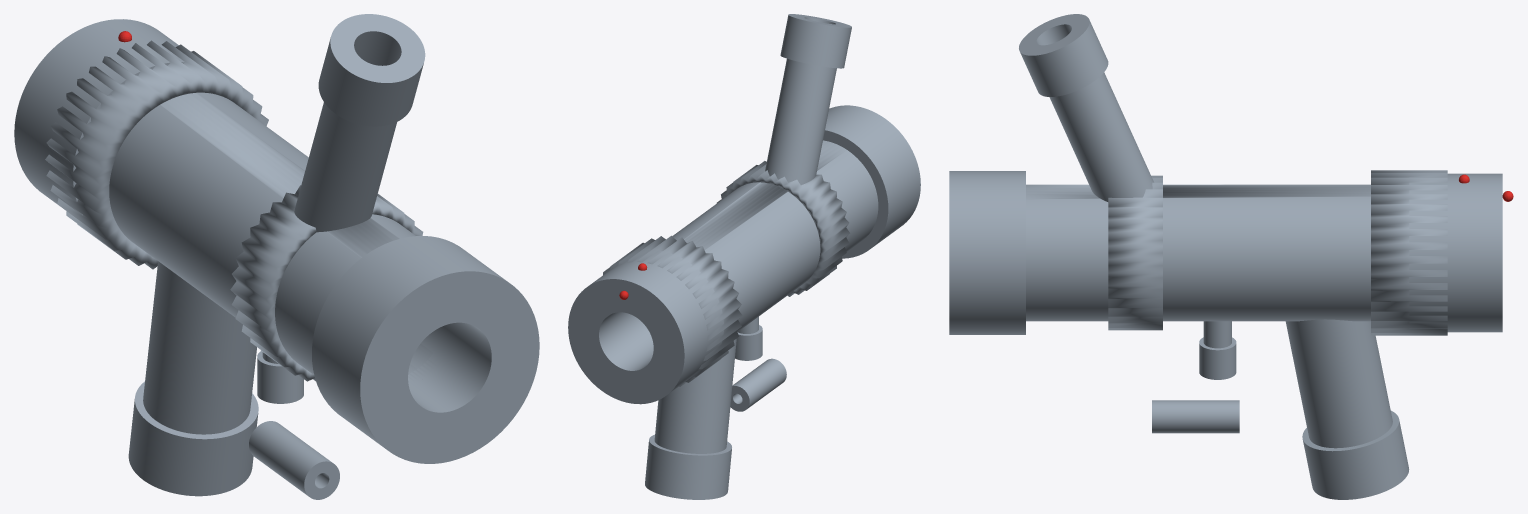
The model's file is bd2410-3-adult-universal-base.glb.
3 renders of one model, left to right at view 1: azimuth 30°, elevation 25°; view 2: azimuth 150°, elevation 25°; view 3: azimuth 270°, elevation 25°, orthographic. The views are drawn at different scales.
Visible parts, largest first — view 1: Universal_Base_BD2410_3_Rear_Main_Port_Collar, Universal_Base_BD2410_3_Connected_Main_Lumen, Universal_Base_BD2410_3_Large_90_Degree_Tube_Lock_Ring, Universal_Base_BD2410_3_Anesthesia_Ventilation_Port_Connecte, Universal_Base_BD2410_3_Front_Tube_Lock_Collar, Universal_Base_BD2410_3_Accessory_Port_End_Collar, Universal_Base_BD2410_3_Accessory_Port_Connected_Lumen, Universal_Base_BD2410_3_Anesthesia_Port_End_Collar, Universal_Base_BD2410_3_Small_360_Degree_Ribbed_Ring, BB2403_3_Patent_Bore, Universal_Base_BD2410_3_Jet_Port_End_Collar; view 2: Universal_Base_BD2410_3_Front_Tube_Lock_Collar, Universal_Base_BD2410_3_Connected_Main_Lumen, Universal_Base_BD2410_3_Rear_Main_Port_Collar, Universal_Base_BD2410_3_Accessory_Port_Connected_Lumen, Universal_Base_BD2410_3_Anesthesia_Ventilation_Port_Connecte, Universal_Base_BD2410_3_Large_90_Degree_Tube_Lock_Ring, Universal_Base_BD2410_3_Small_360_Degree_Ribbed_Ring, Universal_Base_BD2410_3_Anesthesia_Port_End_Collar, Universal_Base_BD2410_3_Accessory_Port_End_Collar, BB2403_3_Patent_Bore, Universal_Base_BD2410_3_Jet_Port_End_Collar; view 3: Universal_Base_BD2410_3_Connected_Main_Lumen, Universal_Base_BD2410_3_Rear_Main_Port_Collar, Universal_Base_BD2410_3_Front_Tube_Lock_Collar, Universal_Base_BD2410_3_Anesthesia_Ventilation_Port_Connecte, Universal_Base_BD2410_3_Large_90_Degree_Tube_Lock_Ring, Universal_Base_BD2410_3_Small_360_Degree_Ribbed_Ring, Universal_Base_BD2410_3_Accessory_Port_Connected_Lumen, Universal_Base_BD2410_3_Anesthesia_Port_End_Collar, Universal_Base_BD2410_3_Accessory_Port_End_Collar, BB2403_3_Patent_Bore, Universal_Base_BD2410_3_Jet_Port_End_Collar, Universal_Base_BD2410_3_Fixed_Jet_Venturi_Port_Connected_Lum.
Part boxes in pixels (x1,y1,x2,y2): Universal_Base_BD2410_3_Rear_Main_Port_Collar: [312, 236, 539, 463]; Universal_Base_BD2410_3_Connected_Main_Lumen: [109, 92, 453, 382]; Universal_Base_BD2410_3_Large_90_Degree_Tube_Lock_Ring: [45, 40, 268, 269]; Universal_Base_BD2410_3_Anesthesia_Ventilation_Port_Connecte: [143, 261, 256, 434]; Universal_Base_BD2410_3_Front_Tube_Lock_Collar: [14, 19, 185, 215]; Universal_Base_BD2410_3_Accessory_Port_End_Collar: [318, 14, 425, 126]; Universal_Base_BD2410_3_Accessory_Port_Connected_Lumen: [294, 50, 396, 232]; Universal_Base_BD2410_3_Anesthesia_Port_End_Collar: [128, 381, 258, 496]; Universal_Base_BD2410_3_Small_360_Degree_Ribbed_Ring: [230, 185, 423, 381]; BB2403_3_Patent_Bore: [249, 421, 339, 499]; Universal_Base_BD2410_3_Jet_Port_End_Collar: [257, 351, 303, 403]; Universal_Base_BD2410_3_Front_Tube_Lock_Collar: [568, 250, 723, 404]; Universal_Base_BD2410_3_Connected_Main_Lumen: [644, 140, 878, 331]; Universal_Base_BD2410_3_Rear_Main_Port_Collar: [823, 105, 920, 258]; Universal_Base_BD2410_3_Accessory_Port_Connected_Lumen: [765, 58, 836, 185]; Universal_Base_BD2410_3_Anesthesia_Ventilation_Port_Connecte: [654, 339, 736, 453]; Universal_Base_BD2410_3_Large_90_Degree_Tube_Lock_Ring: [603, 235, 742, 386]; Universal_Base_BD2410_3_Small_360_Degree_Ribbed_Ring: [716, 161, 850, 296]; Universal_Base_BD2410_3_Anesthesia_Port_End_Collar: [645, 434, 731, 499]; Universal_Base_BD2410_3_Accessory_Port_End_Collar: [780, 14, 851, 68]; BB2403_3_Patent_Bore: [730, 358, 786, 411]; Universal_Base_BD2410_3_Jet_Port_End_Collar: [735, 325, 762, 360]; Universal_Base_BD2410_3_Connected_Main_Lumen: [1026, 184, 1370, 321]; Universal_Base_BD2410_3_Rear_Main_Port_Collar: [949, 171, 1025, 334]; Universal_Base_BD2410_3_Front_Tube_Lock_Collar: [1409, 173, 1502, 332]; Universal_Base_BD2410_3_Anesthesia_Ventilation_Port_Connecte: [1285, 319, 1392, 448]; Universal_Base_BD2410_3_Large_90_Degree_Tube_Lock_Ring: [1371, 170, 1447, 335]; Universal_Base_BD2410_3_Small_360_Degree_Ribbed_Ring: [1108, 175, 1162, 330]; Universal_Base_BD2410_3_Accessory_Port_Connected_Lumen: [1049, 72, 1153, 201]; Universal_Base_BD2410_3_Anesthesia_Port_End_Collar: [1302, 410, 1409, 499]; Universal_Base_BD2410_3_Accessory_Port_End_Collar: [1019, 14, 1108, 96]; BB2403_3_Patent_Bore: [1152, 400, 1239, 433]; Universal_Base_BD2410_3_Jet_Port_End_Collar: [1199, 337, 1236, 379]; Universal_Base_BD2410_3_Fixed_Jet_Venturi_Port_Connected_Lum: [1203, 321, 1231, 348].
Bounding box in the file's own units: 0.0303 × 0.093 × 0.103.
